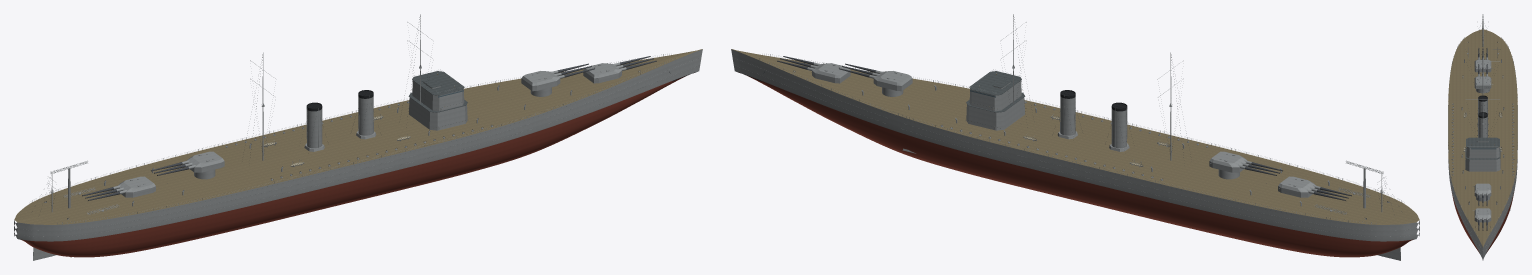
The model's file is columbia_bb32.glb.
3 views of the same model, side by side, from view 1: azimuth 30°, elevation 25°; view 2: azimuth 150°, elevation 25°; view 3: azimuth 270°, elevation 25° (orthographic). The views are drawn at different scales.
Visible parts, largest first — view 1: Columbia class; view 2: Columbia class; view 3: Columbia class.
Boxes of the visible parts, x1,y1,x2,y2 form: Columbia class: [14, 14, 702, 260]; Columbia class: [731, 14, 1419, 260]; Columbia class: [1448, 14, 1517, 260].
Bounding box in the file's own units: 350 × 75.3 × 46.59.
9 materials, 8 textured.
